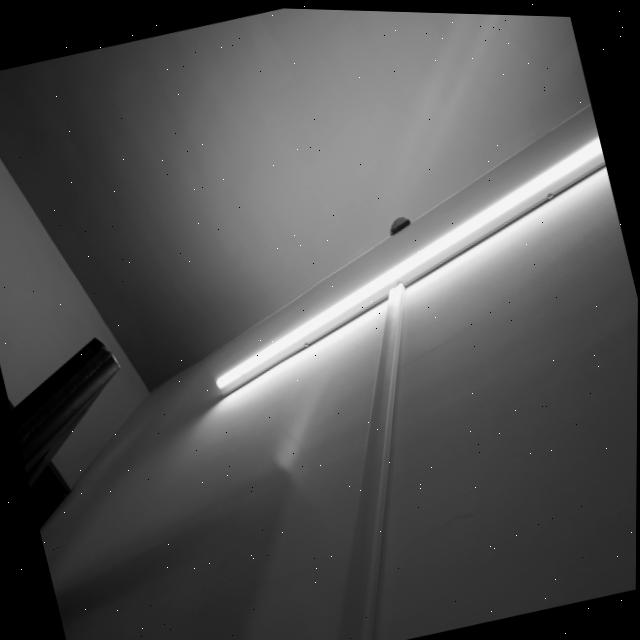light_on: (164, 82, 640, 424)
